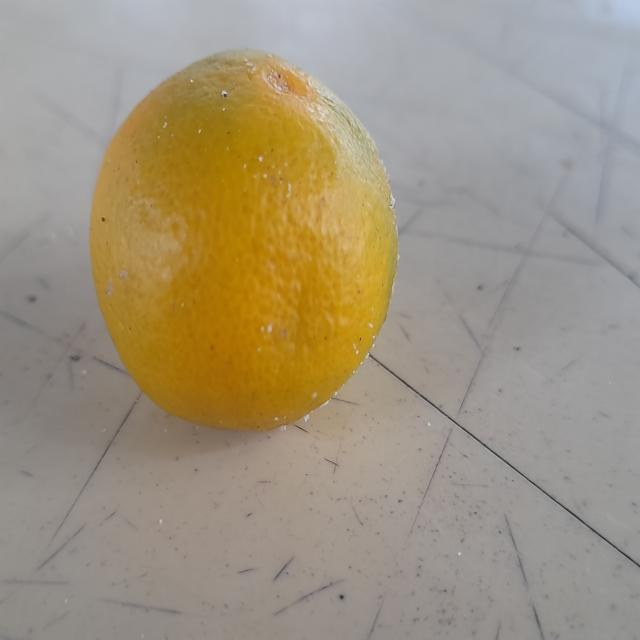greening: (82, 56, 414, 450)
